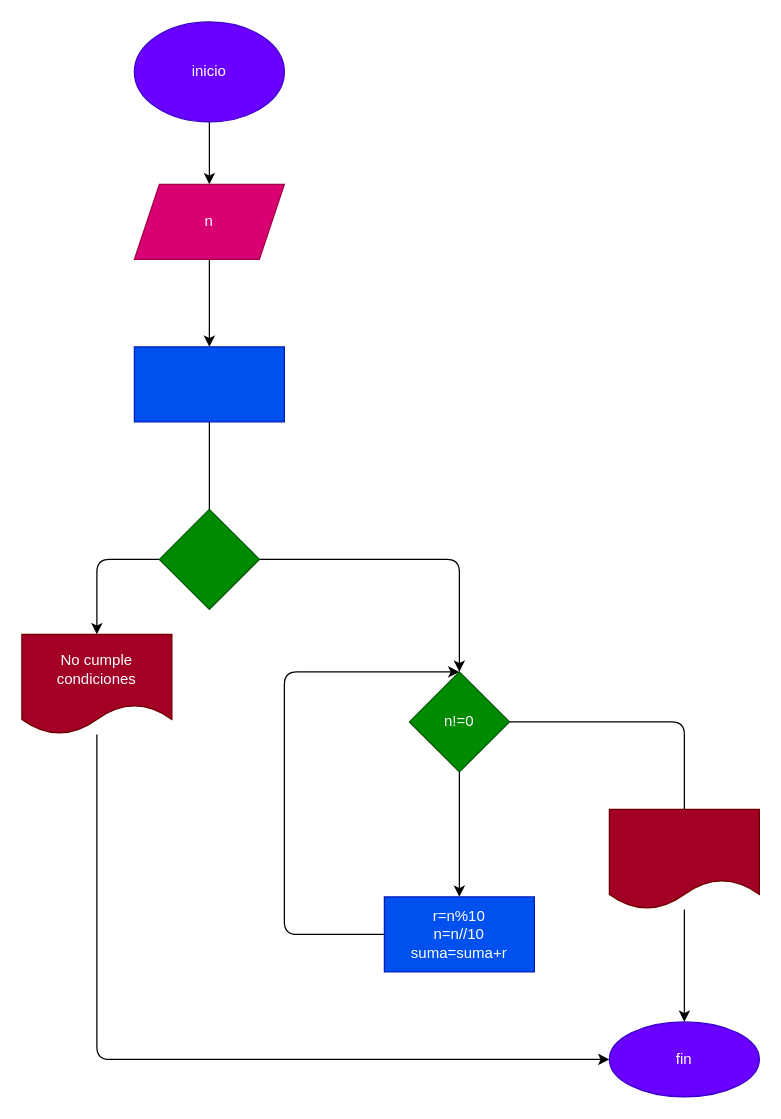
The diagram is 781 pixels wide and 1119 high, and some of its shapes have lost their labels. The shapes that lost their labels are listed below. From the top down, each one's centre as x and y in pixels, then its label:
(208,384): suma=0
(208,558): n>=0
(683,858): n,suma
